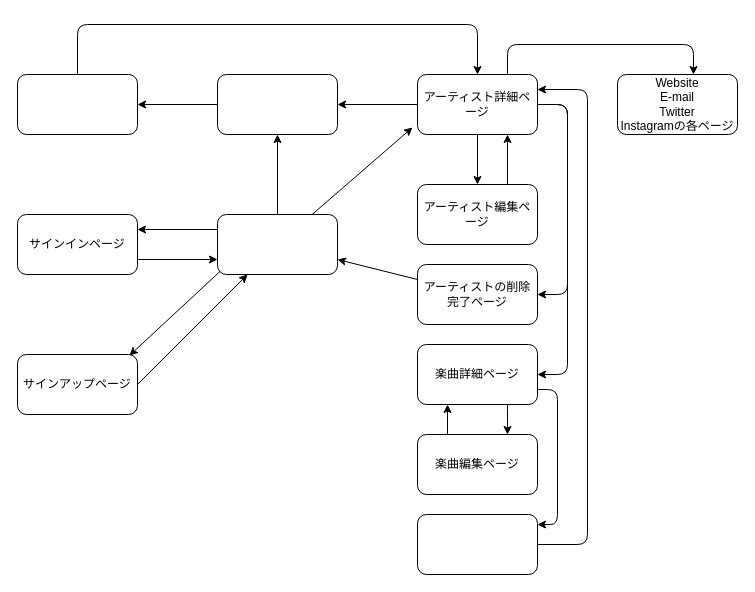
The diagram is 755 pixels wide and 592 high, and some of its shapes have lost their labels. The shapes that lost their labels are listed below. From the top down, each one's centre as x and y in pixels, then its label:
[77,104]: 楽曲アップロード完了ページ
[277,104]: 楽曲アップロードページ
[277,244]: Topページ
[477,544]: 楽曲削除完了ページ
